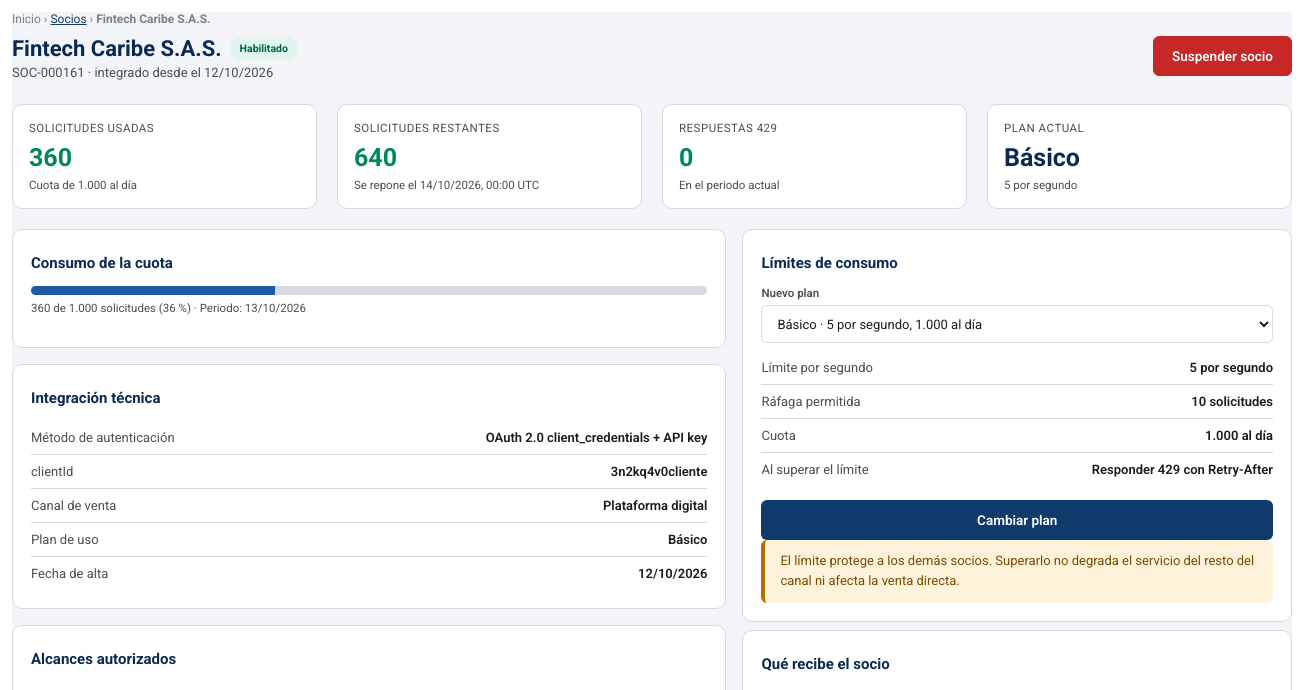
Test: SocioDetalleComponent › cambia el plan, lo anuncia y vuelve a consultar el consumo
The width and height of the screenshot is (1304, 690).
Select "Prueba · 1 por segundo, 5 al día" in the dropdown labelled "Nuevo plan" at (1017, 324), box [761, 305, 1273, 343]
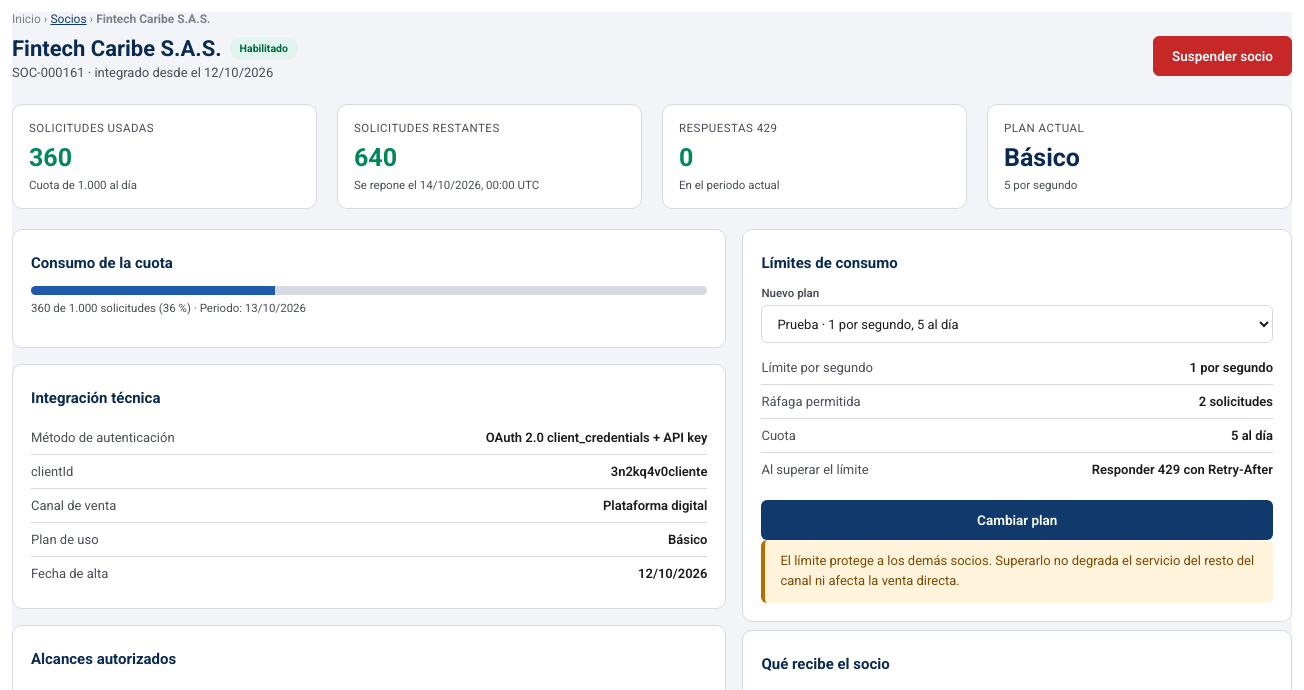
Click the submit button at (1017, 520), box [761, 500, 1273, 540]
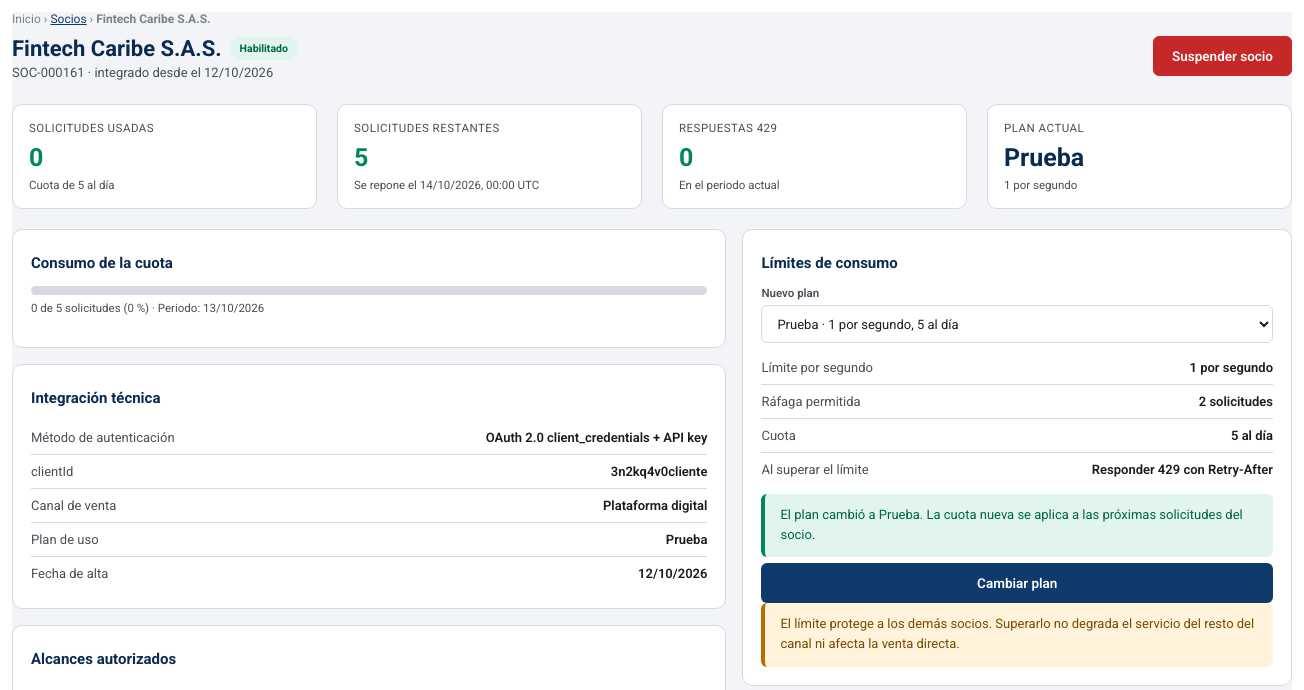
Check: the text with test id "plan-cambiado" shows "El plan cambió a Prueba", box [780, 507, 1243, 542]
